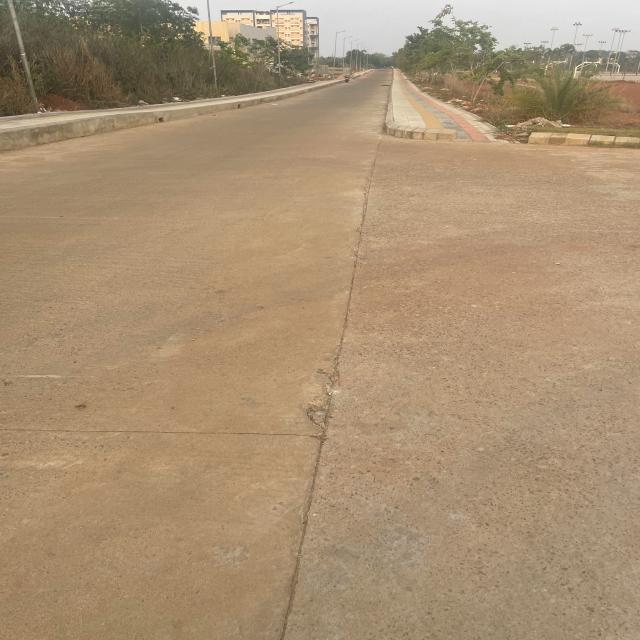D43: (172, 150, 443, 602)
